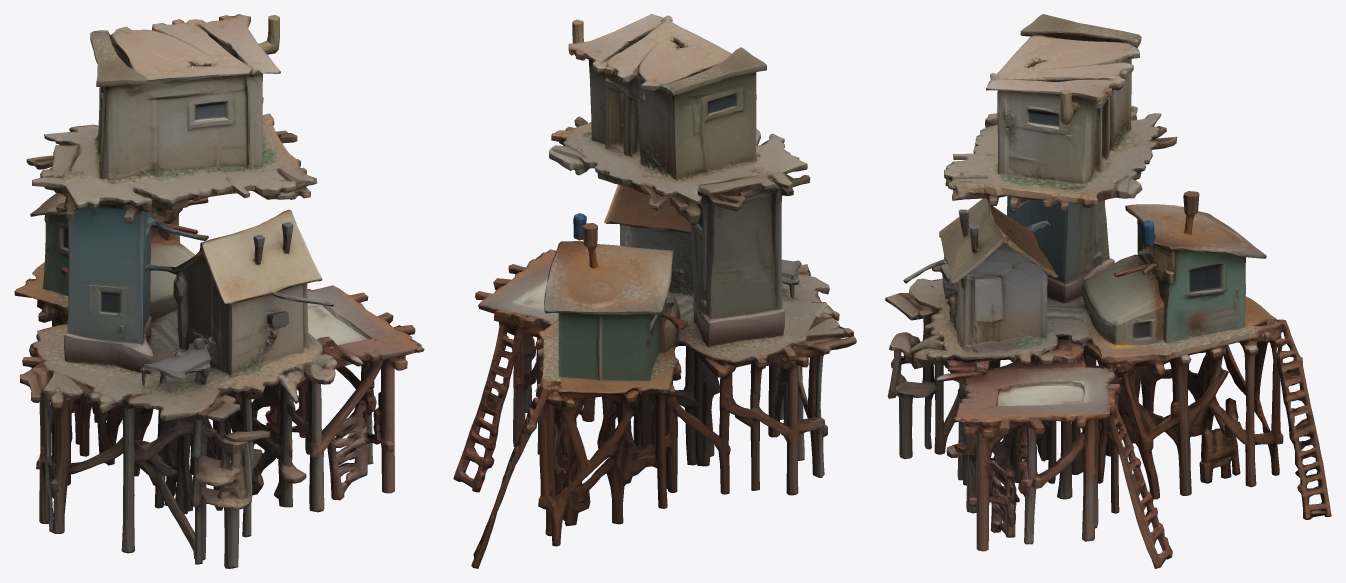
File: post_house.glb
The picture shows the model from 3 angles, left to right: view 1: azimuth 30°, elevation 25°; view 2: azimuth 150°, elevation 25°; view 3: azimuth 270°, elevation 25°; orthographic projection. The views are drawn at different scales.
Parts seen in each view (by area): view 1: world; view 2: world; view 3: world.
Part boxes in pixels (<box>): world: <box>14,14,424,568</box>; world: <box>453,14,856,568</box>; world: <box>885,14,1331,568</box>.
Size of the model in its own units: 0.8268 by 0.9991 by 0.9126.
Materials: 1 (1 with a texture image).
